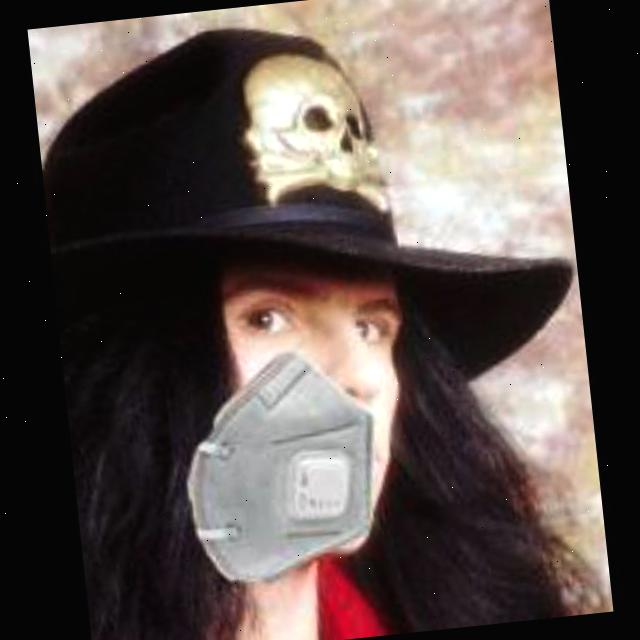suspicion: (118, 256, 450, 594)
